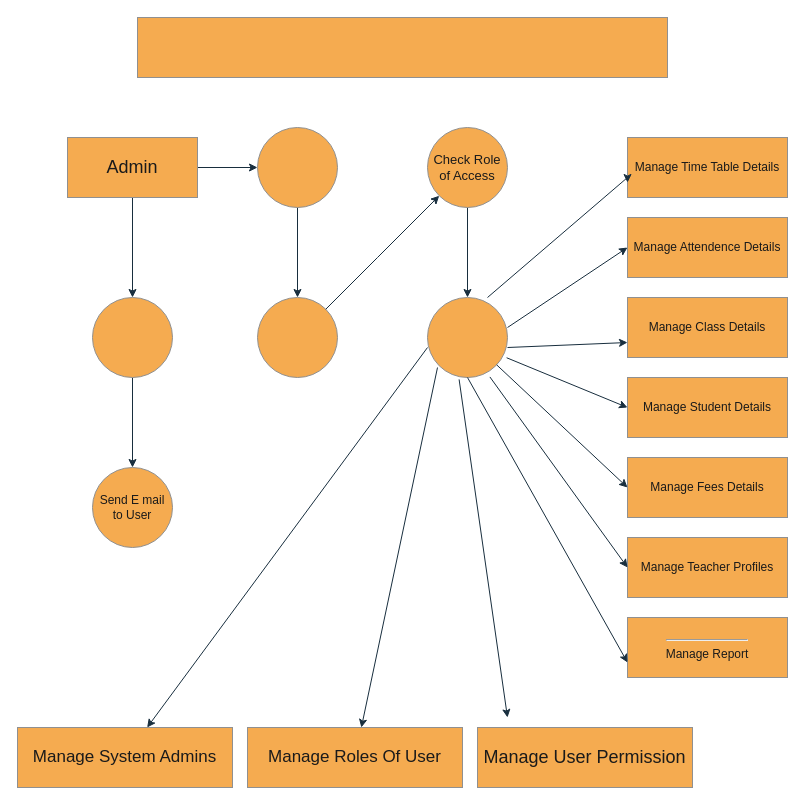
The diagram is 805 pixels wide and 805 high, and some of its shapes have lost their labels. The centre of each missing label's shape, as x and y in pixels:
"Check Credintials" belongs at pixel 297 337.
"Forot Password" belongs at pixel 132 337.
"Lgin to syatem" belongs at pixel 297 167.
"Manage Module s" belongs at pixel 467 337.
"student information system" belongs at pixel 402 47.
